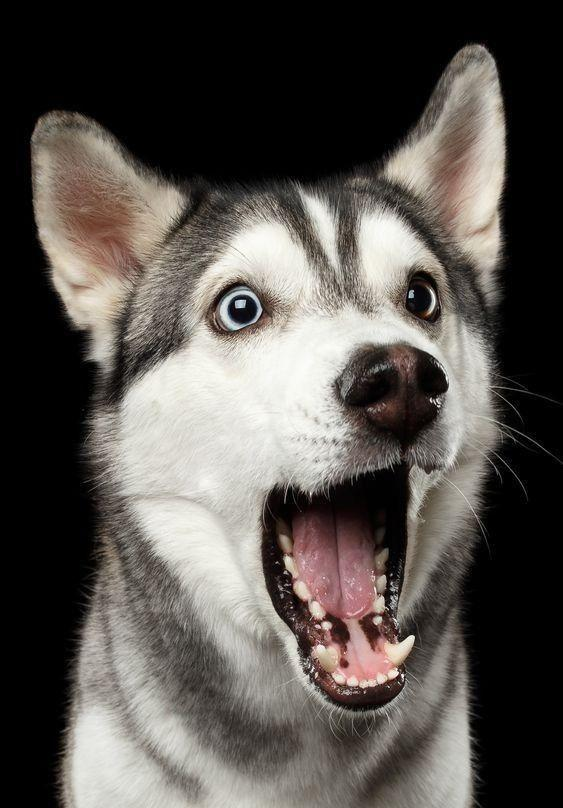adult_dog: (24, 31, 510, 807)
